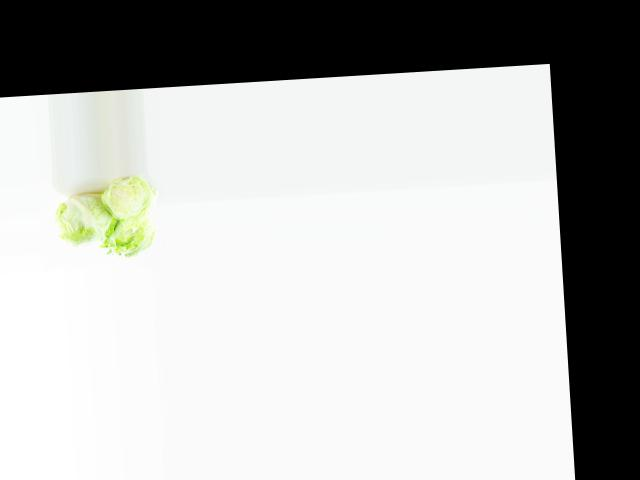lettuce: (95, 212, 158, 264)
